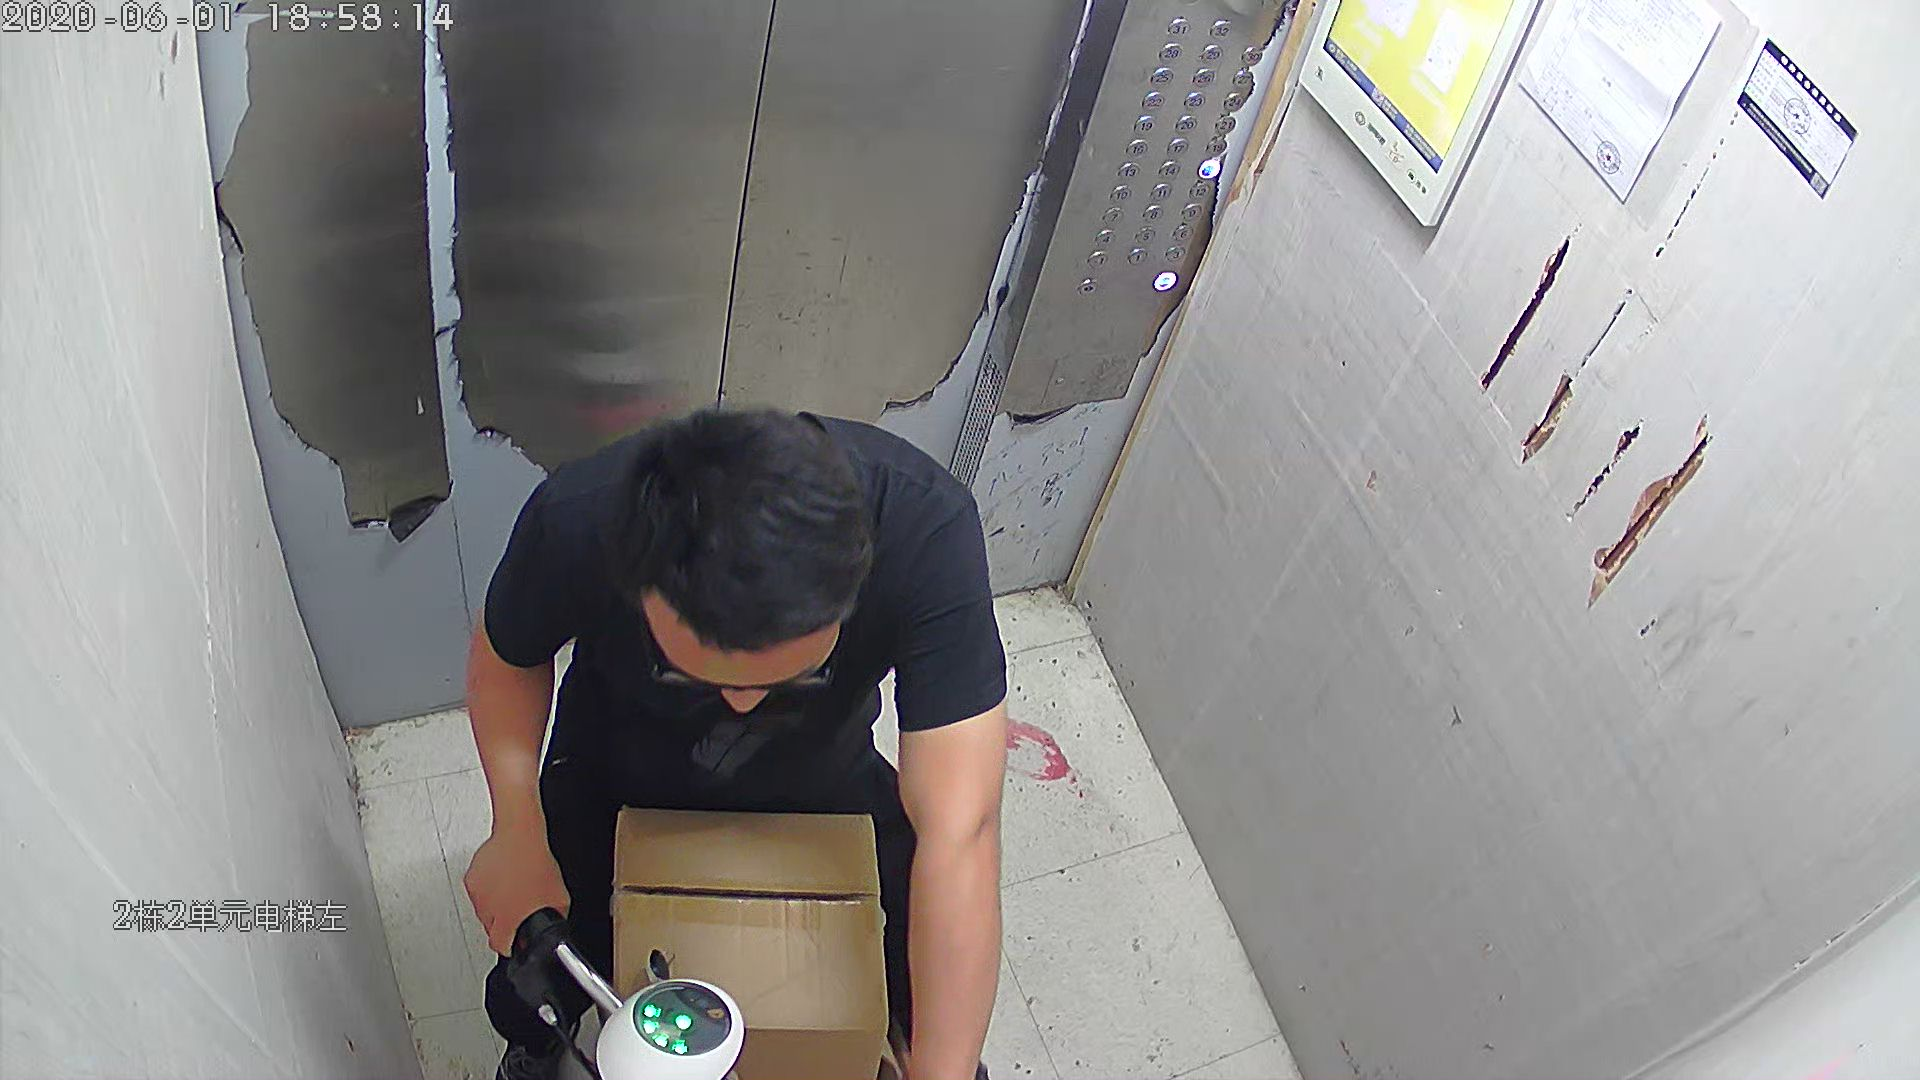Electric-bicycle: (483, 884, 752, 1080)
